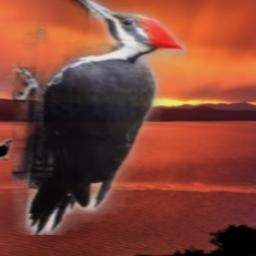Crow: (0, 139, 12, 161)
Woodpecker: (13, 0, 187, 235)
